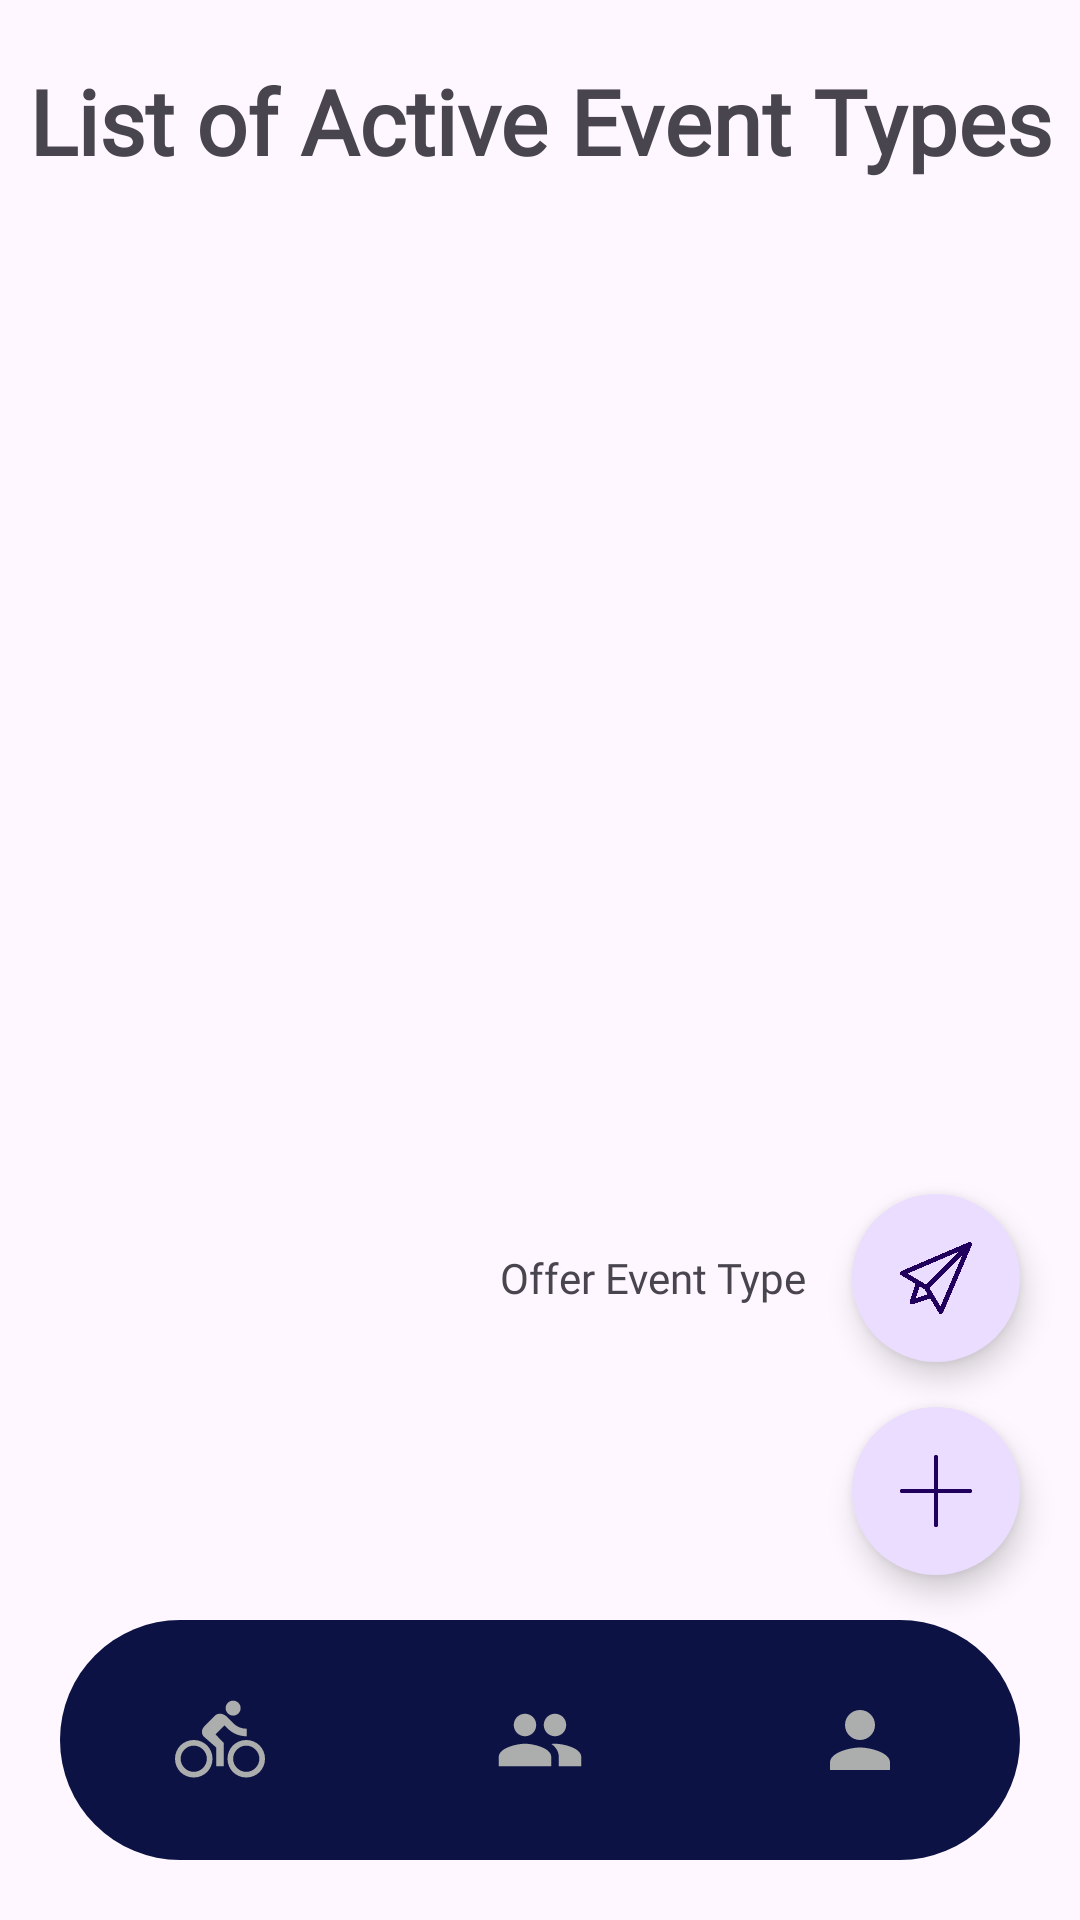

Screen size 1080 x 1920. Icon name, then its center in pixels as (x=x, y=y):
add: (x=936, y=1491)
